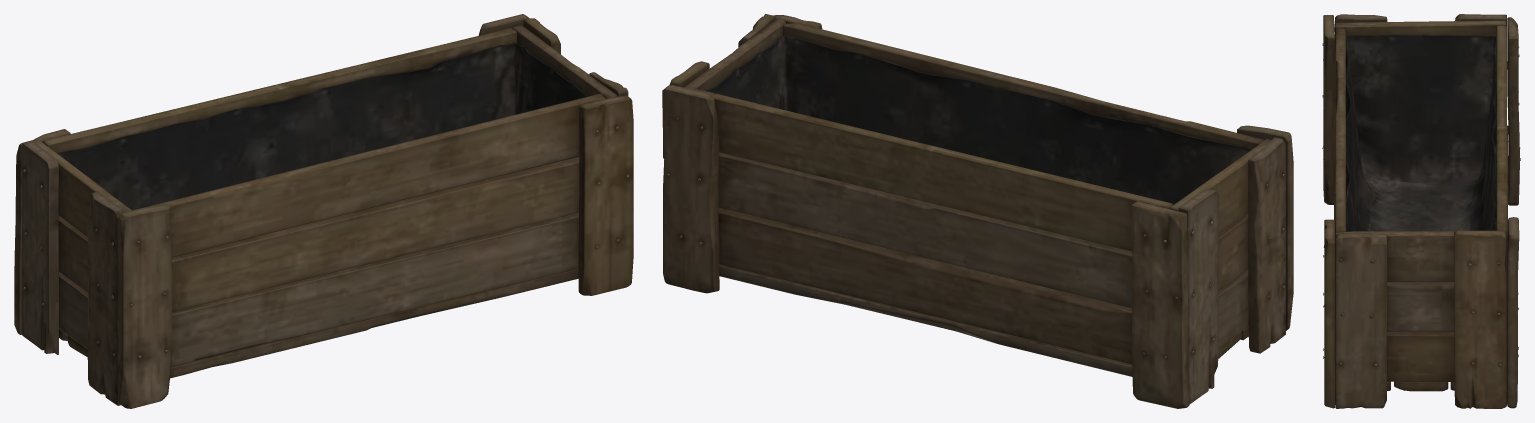
The model's file is planter_box_02.glb.
3 views of the same model, side by side, from view 1: azimuth 30°, elevation 25°; view 2: azimuth 150°, elevation 25°; view 3: azimuth 270°, elevation 25° (orthographic). The views are drawn at different scales.
Visible parts, largest first — view 1: planter_box_02; view 2: planter_box_02; view 3: planter_box_02.
Boxes of the visible parts, x1,y1,x2,y2 form: planter_box_02: (14,14,633,408); planter_box_02: (662,14,1293,408); planter_box_02: (1322,14,1520,408).
Size of the model in its own units: 1.25 by 0.4534 by 0.4673.
1 material, 1 textured.
